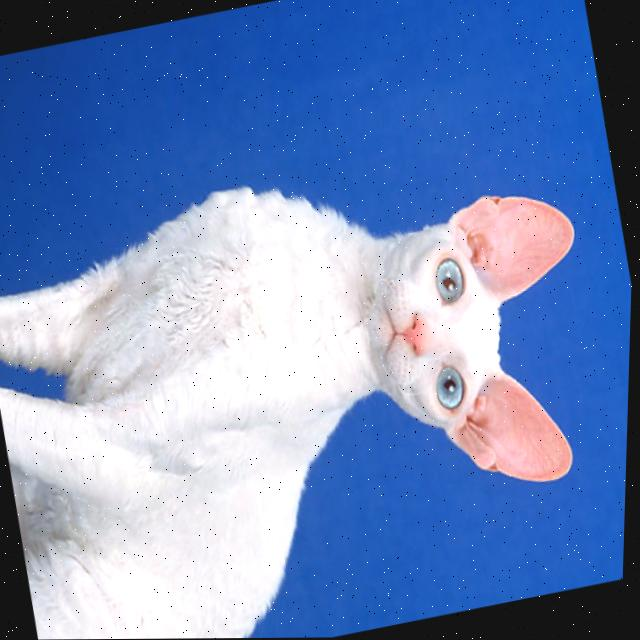Cornish Rex: (0, 111, 637, 640)
